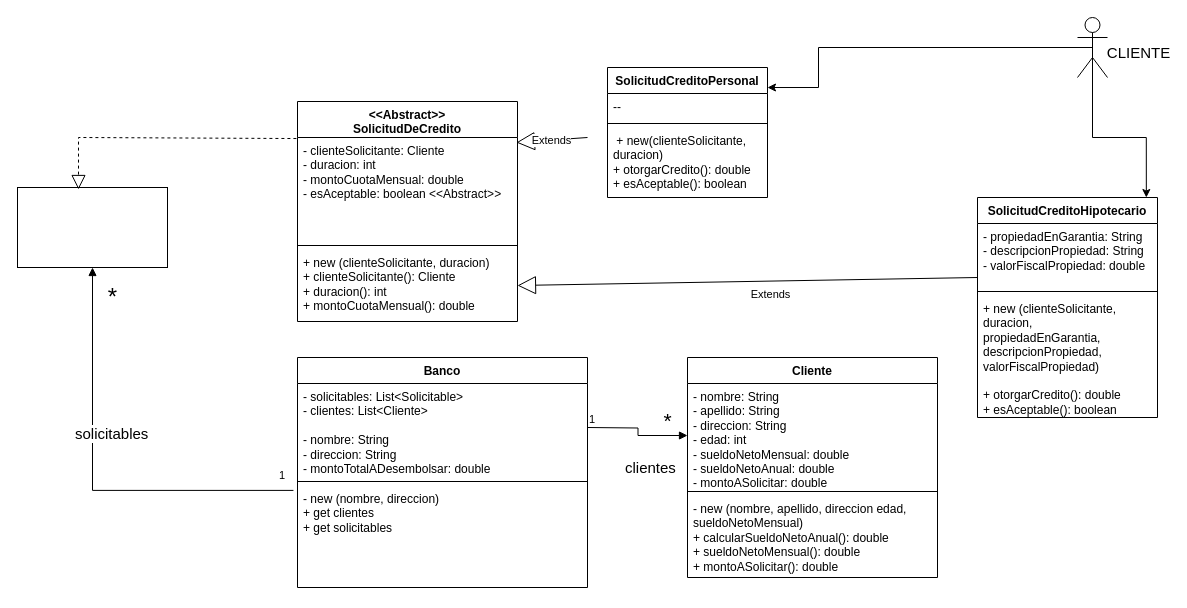
Image size: 1187x608. Some labels were removed from this diagram. The shapes that lost their labels are listed below. From the top down, each one's centre as x and y in pixels, then its label:
pixel 1092 47: Actor
pixel 92 227: «interface» Solicitable + otorgarCredito(): double
